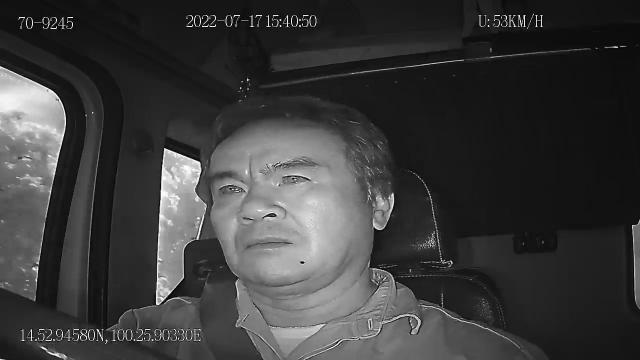SafeDriving: (270, 165, 318, 192), (210, 173, 252, 203)
Seatbelt: (197, 264, 267, 360)
